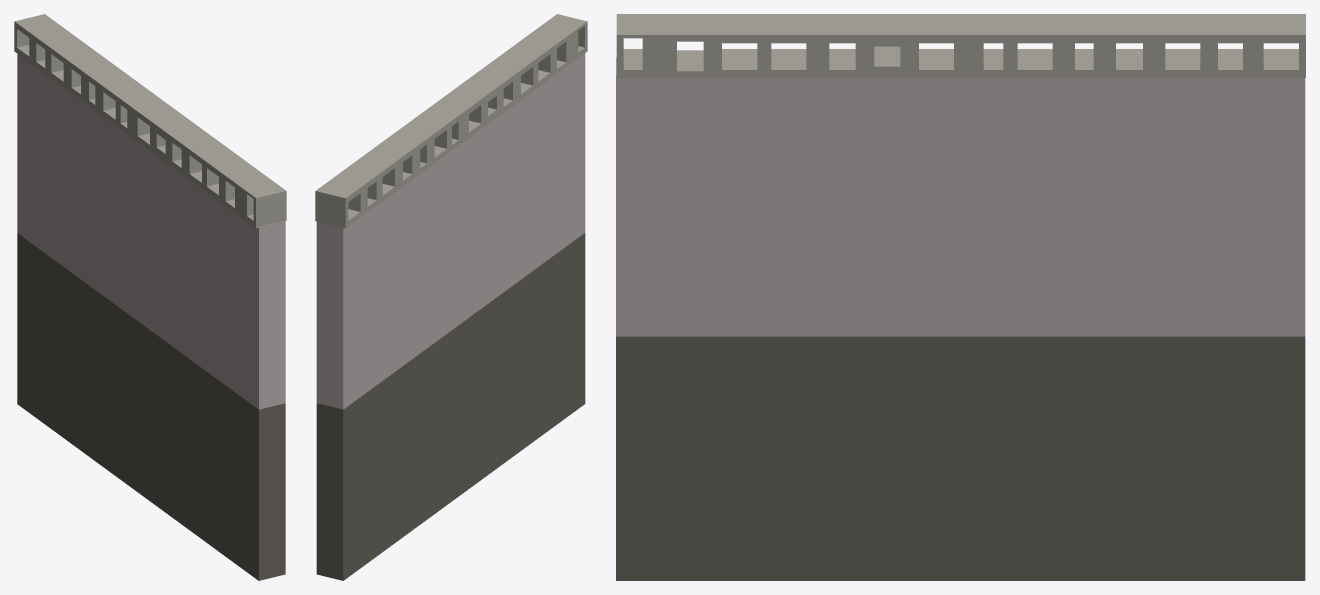
The model's file is Wall.fbx.
The picture shows the model from 3 angles, left to right: view 1: azimuth 30°, elevation 25°; view 2: azimuth 150°, elevation 25°; view 3: azimuth 270°, elevation 25°; orthographic projection. The views are drawn at different scales.
Visible parts, largest first — view 1: Wall; view 2: Wall; view 3: Wall.
Boxes of the visible parts, left/top/right/bottom form: Wall: left=14, top=14, right=286, bottom=580; Wall: left=315, top=14, right=587, bottom=580; Wall: left=616, top=14, right=1305, bottom=580.
Bounding box in the file's own units: 6.48 × 89.36 × 78.12.
